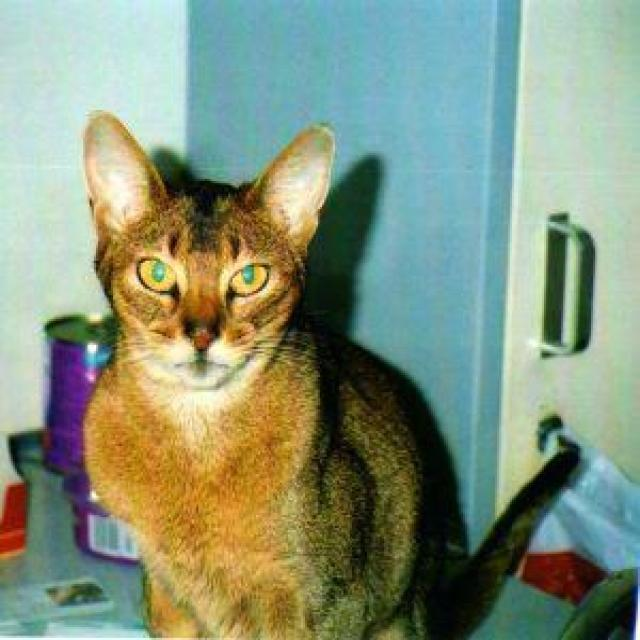cat: (81, 107, 576, 640)
